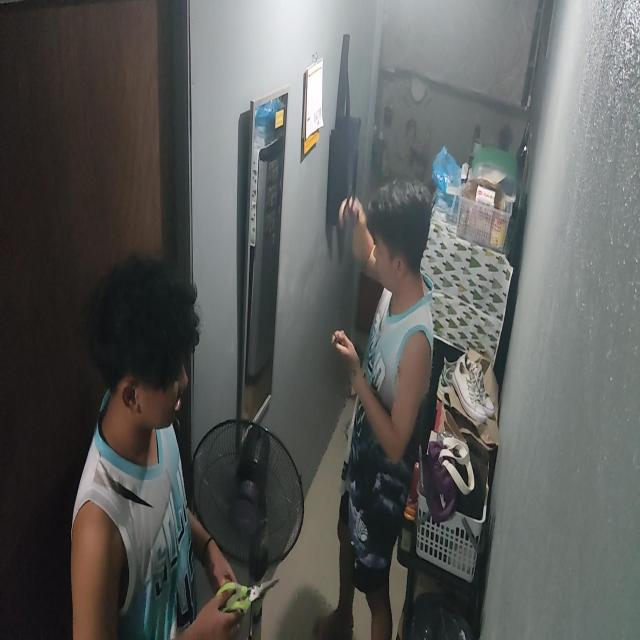scissor: (218, 578, 280, 623)
